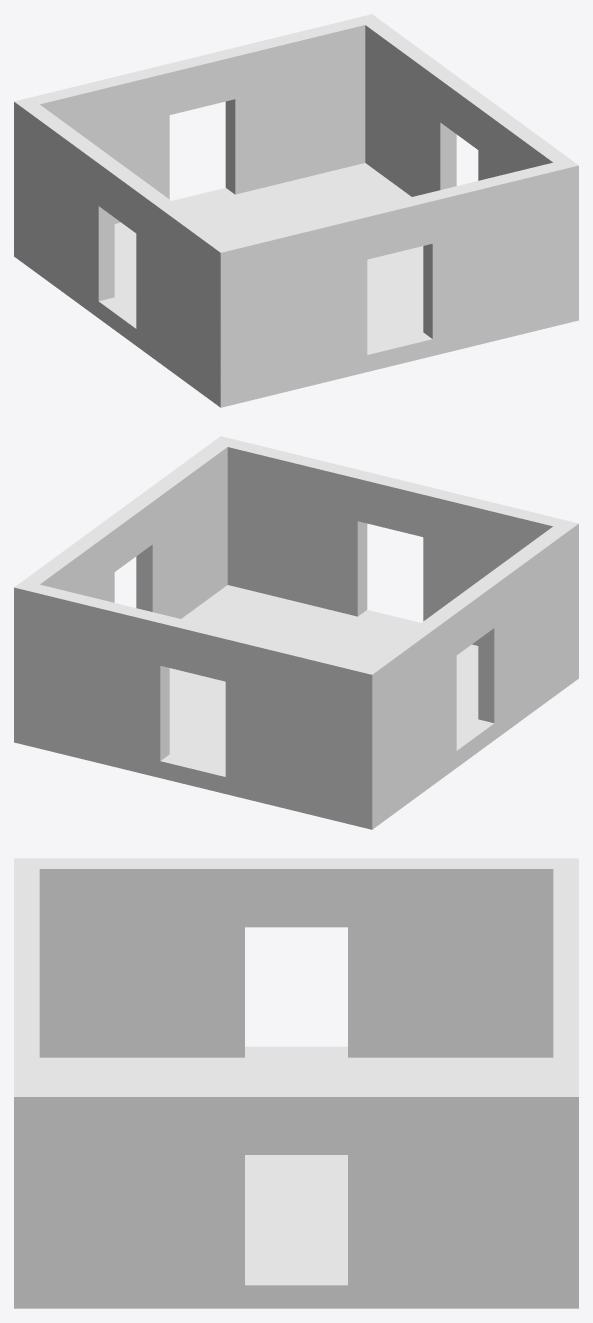
File: room_with_holes.fbx
3 renders of one model, top to bottom at view 1: azimuth 30°, elevation 25°; view 2: azimuth 150°, elevation 25°; view 3: azimuth 270°, elevation 25°, orthographic. The views are drawn at different scales.
Visible parts, largest first — view 1: floor.001; view 2: floor.001; view 3: floor.001.
Boxes of the visible parts, bbox=[...] form: floor.001: bbox=[14, 14, 578, 407]; floor.001: bbox=[14, 436, 578, 829]; floor.001: bbox=[14, 858, 578, 1308].
Bounding box in the file's own units: 1100 × 455 × 1100.
